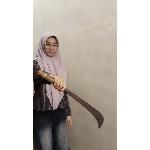Golok: (38, 68, 106, 132)
